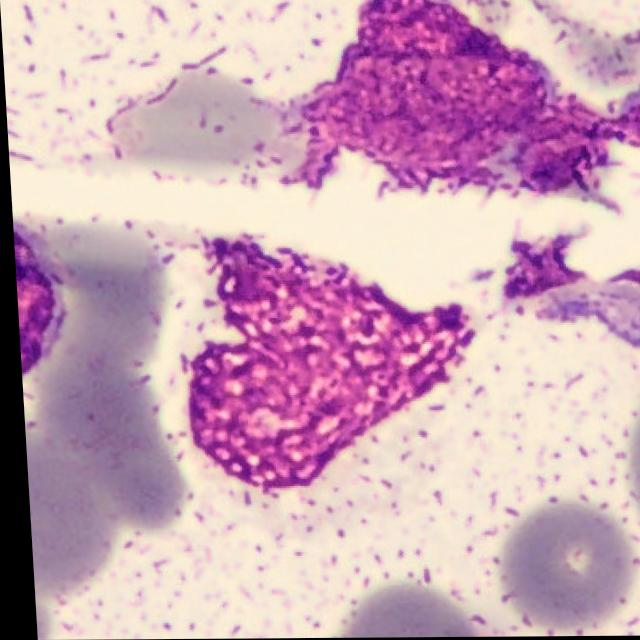Artefato: (301, 0, 640, 206)
Restos celulares: (162, 235, 472, 490)
